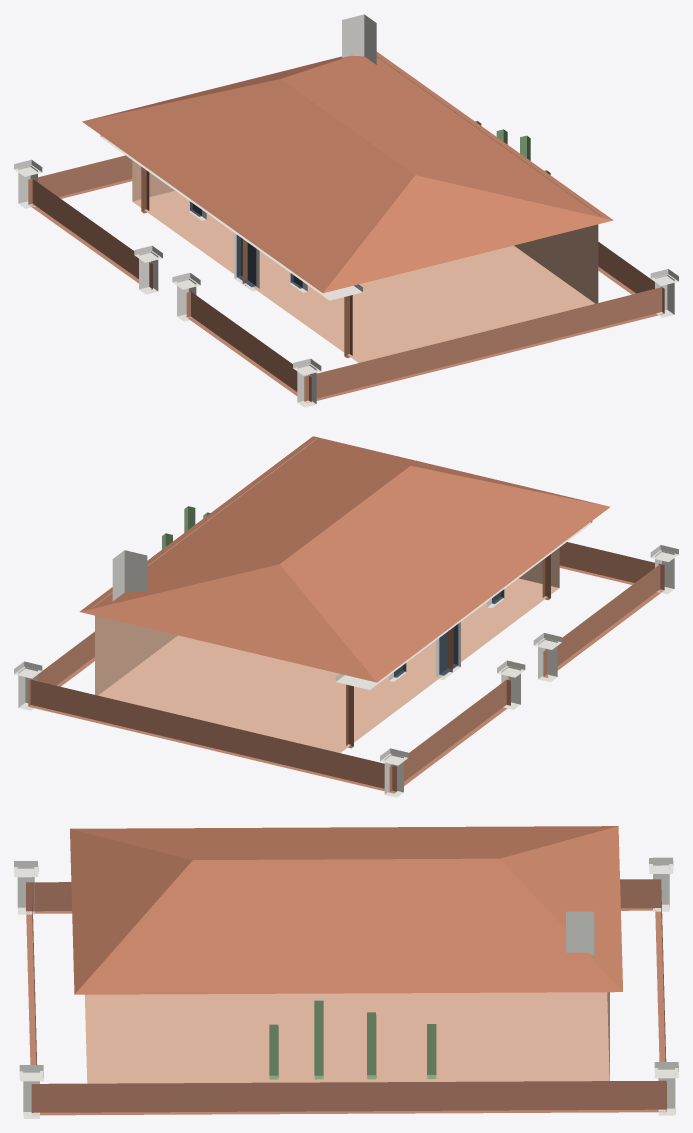
File: cunucu_tanki.glb
3 renders of one model, top to bottom at view 1: azimuth 30°, elevation 25°; view 2: azimuth 150°, elevation 25°; view 3: azimuth 270°, elevation 25°, orthographic. The views are drawn at different scales.
Visible parts, largest first — view 1: cunucu_tanki_lod0; view 2: cunucu_tanki_lod0; view 3: cunucu_tanki_lod0.
Boxes of the visible parts, x1,y1,x2,y2 form: cunucu_tanki_lod0: (14,14,678,407); cunucu_tanki_lod0: (14,436,678,797); cunucu_tanki_lod0: (14,826,678,1118).
Size of what is drawn, in the model's own units: 13.71 by 4.65 by 17.71.
